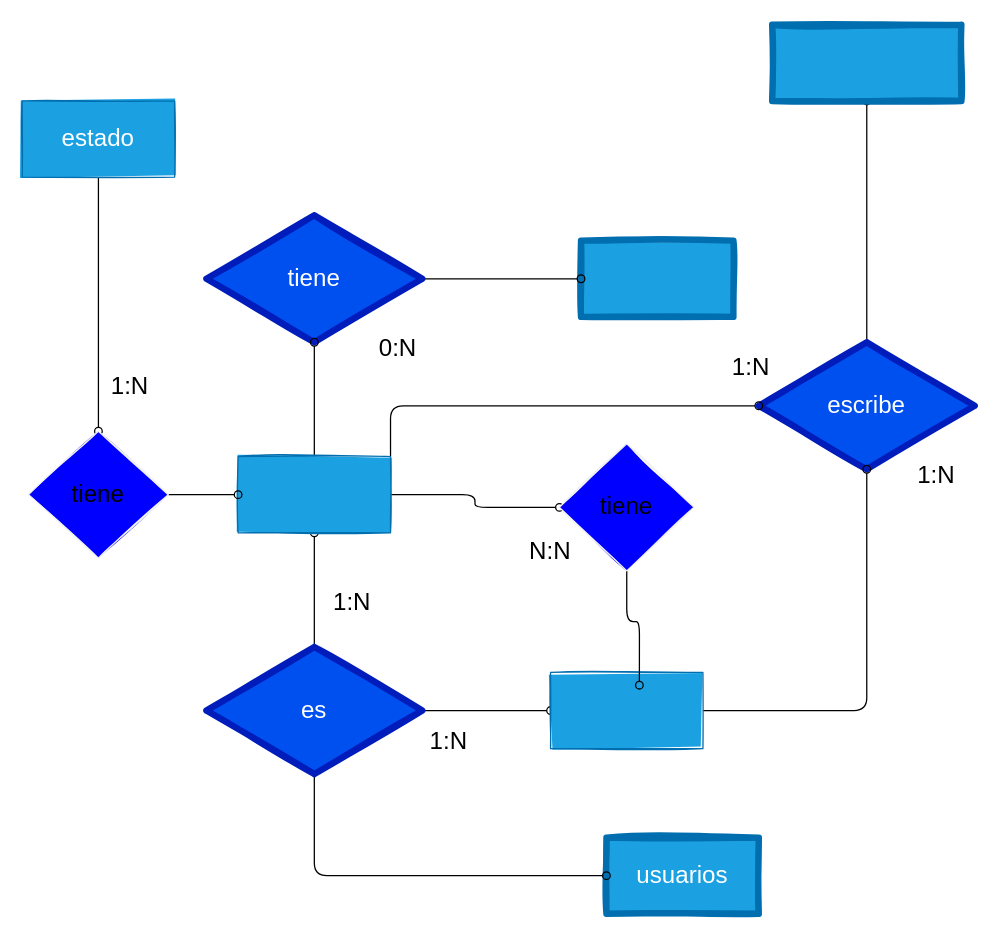
This 999x939 diagram has some shape labels left out. The box of each missing label's shape, as (x1, y1, x2, y2) in pixels:
doctores: (549, 671, 703, 749)
habitaciones: (577, 237, 736, 319)
observaciones: (768, 21, 964, 104)
pasientes: (237, 455, 391, 533)
